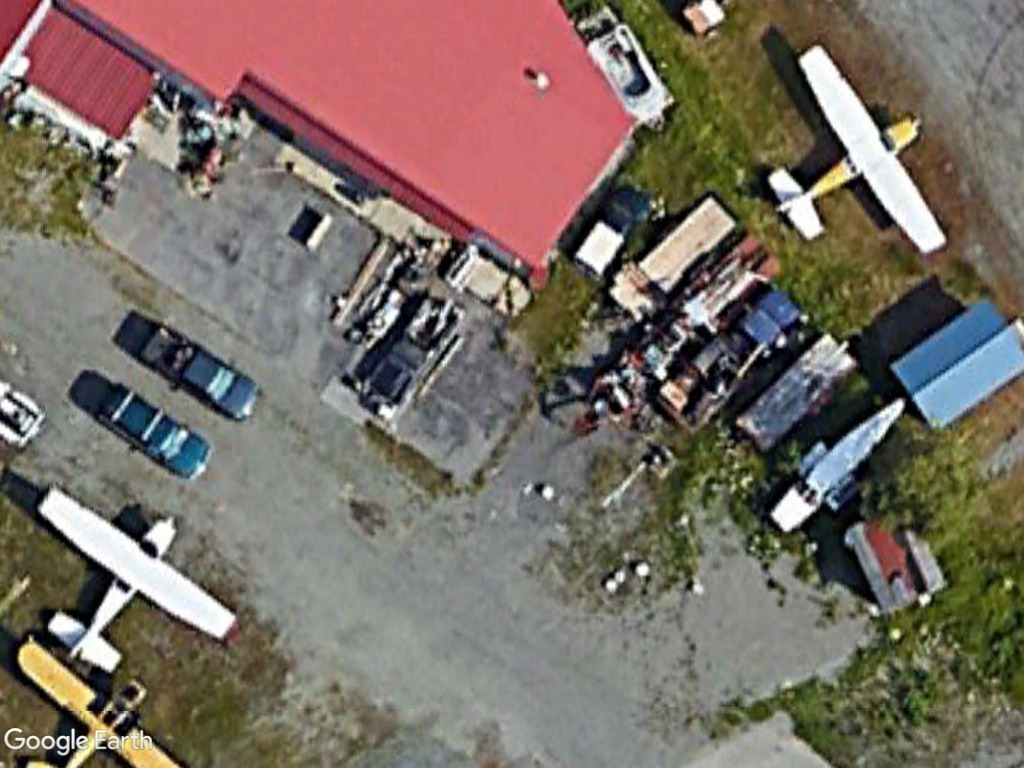other: (97, 385, 221, 487), (141, 321, 262, 424)
trainer: (757, 39, 953, 259), (33, 478, 241, 670)
